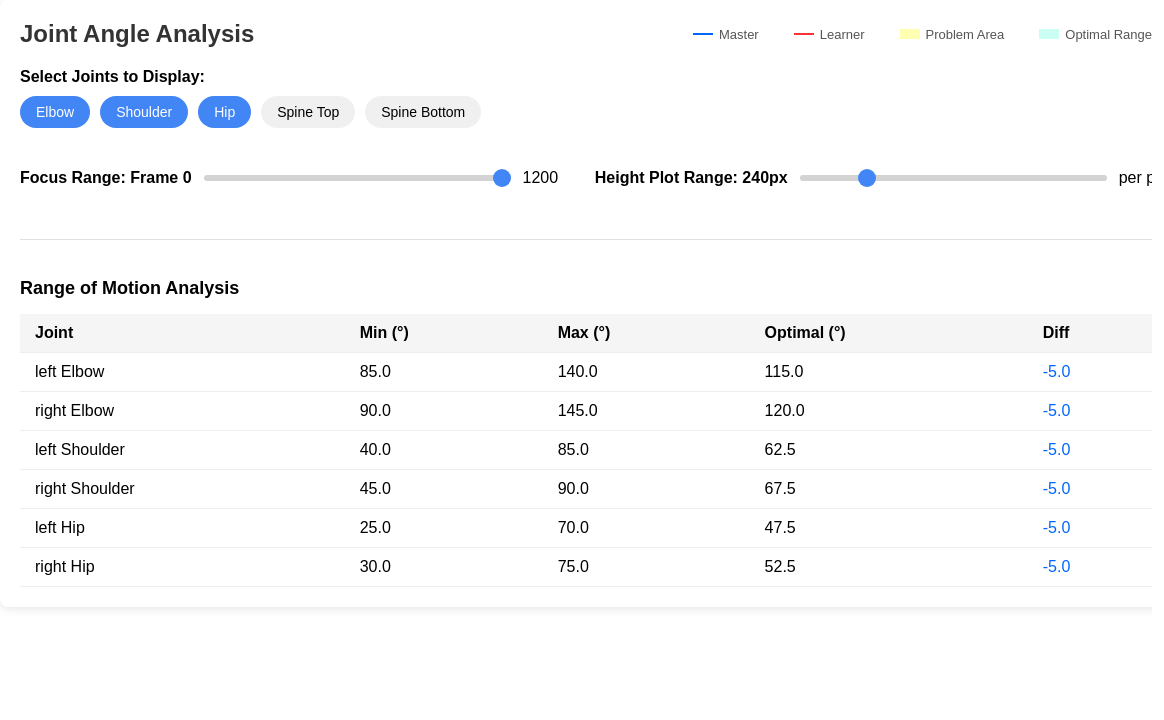
Test: JointAngleChart Component › Slider Controls › focus range slider updates correctly
Set the 1st slider showing "1200" to "800". click: [406, 178]
box: [204,175,510,181]
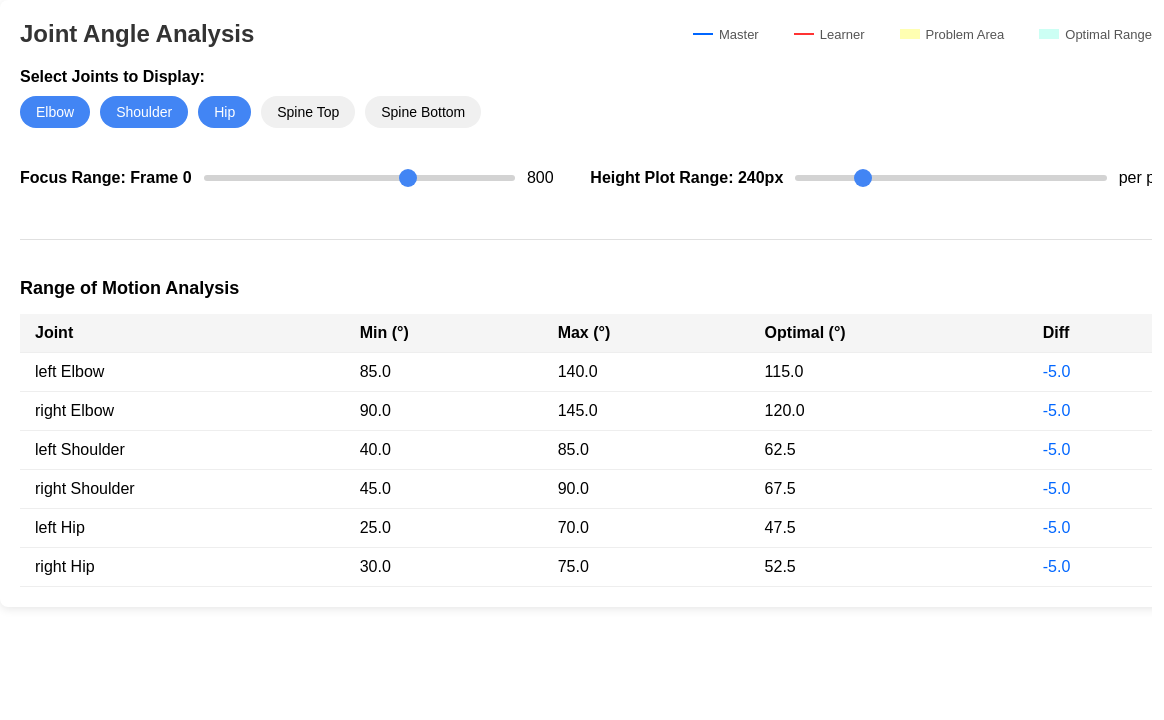
Check: the text "800" is shown, box [527,169,554,186]
